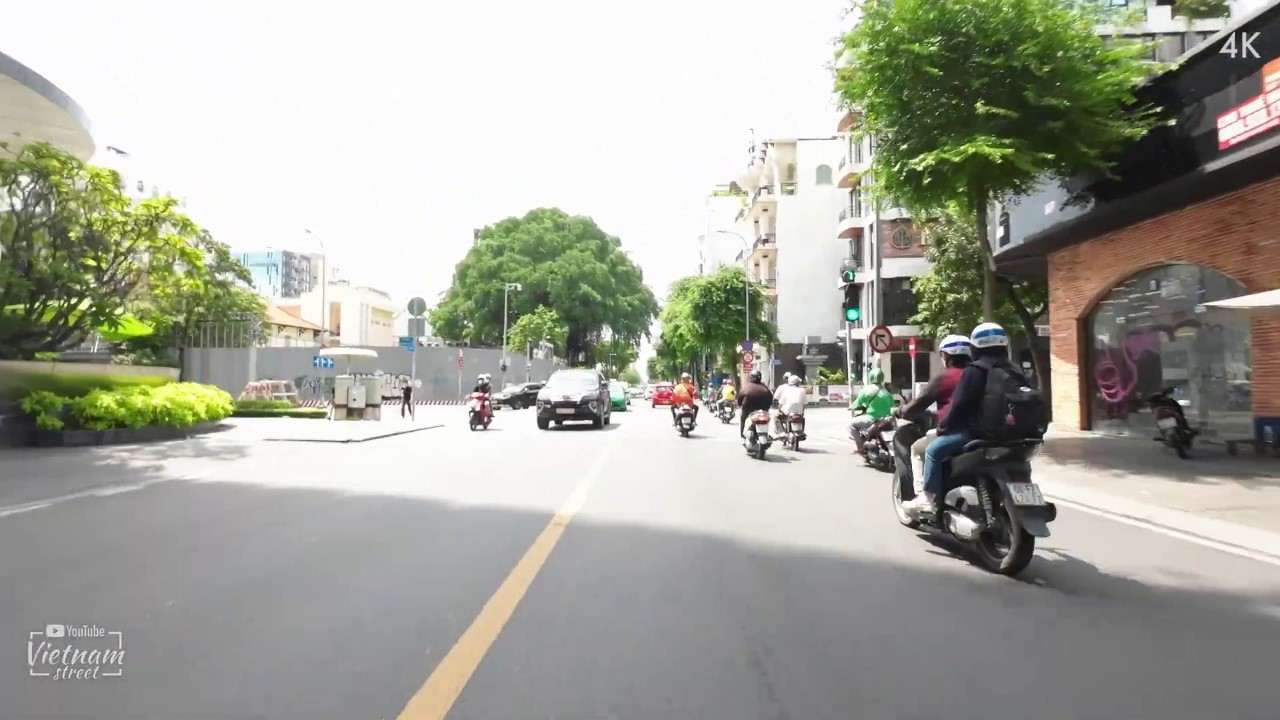cam_re_phai: (868, 325, 895, 354)
